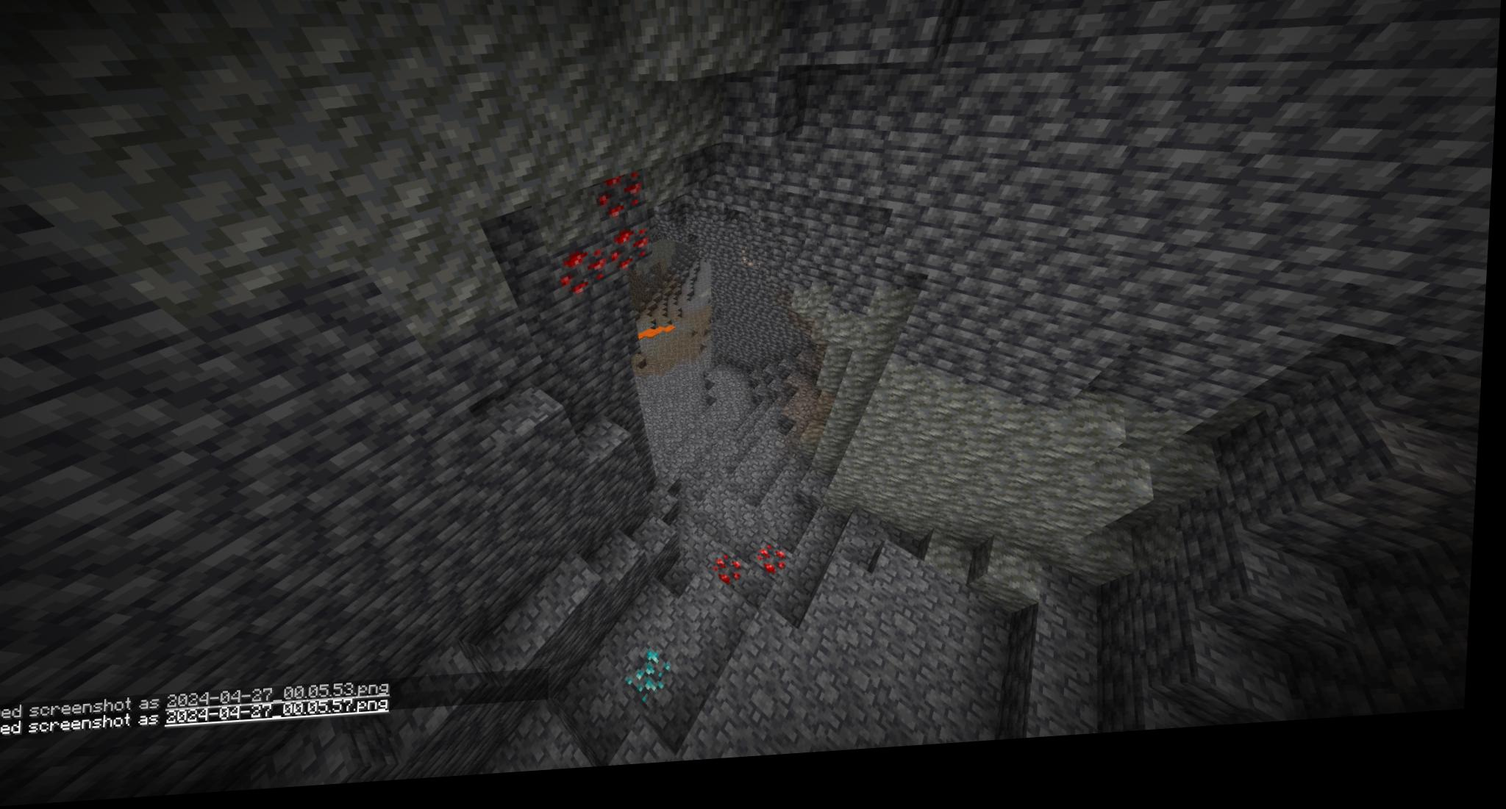diamond ore: (631, 657, 686, 715)
iron ore: (735, 254, 766, 286)
redstone ore: (546, 249, 607, 304), (608, 229, 662, 285), (598, 177, 650, 224), (760, 553, 796, 590), (719, 559, 751, 596)
